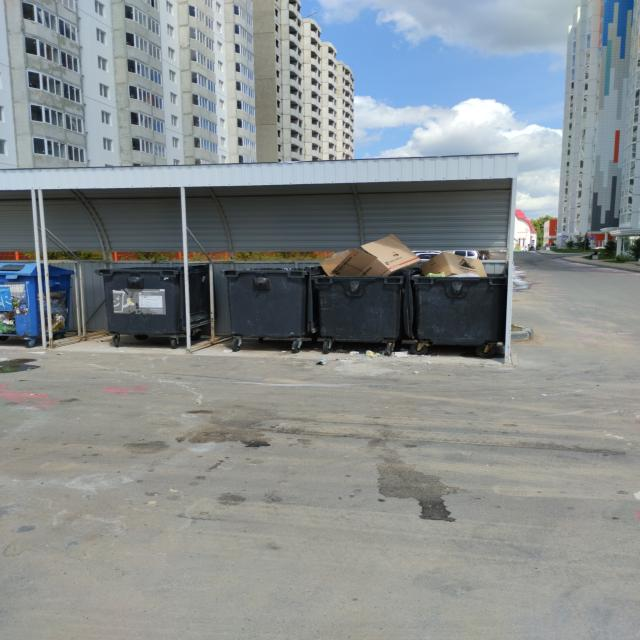bin: (314, 274, 502, 356), (96, 265, 214, 347), (219, 266, 312, 350), (0, 260, 77, 347)
trash: (316, 232, 487, 274)
